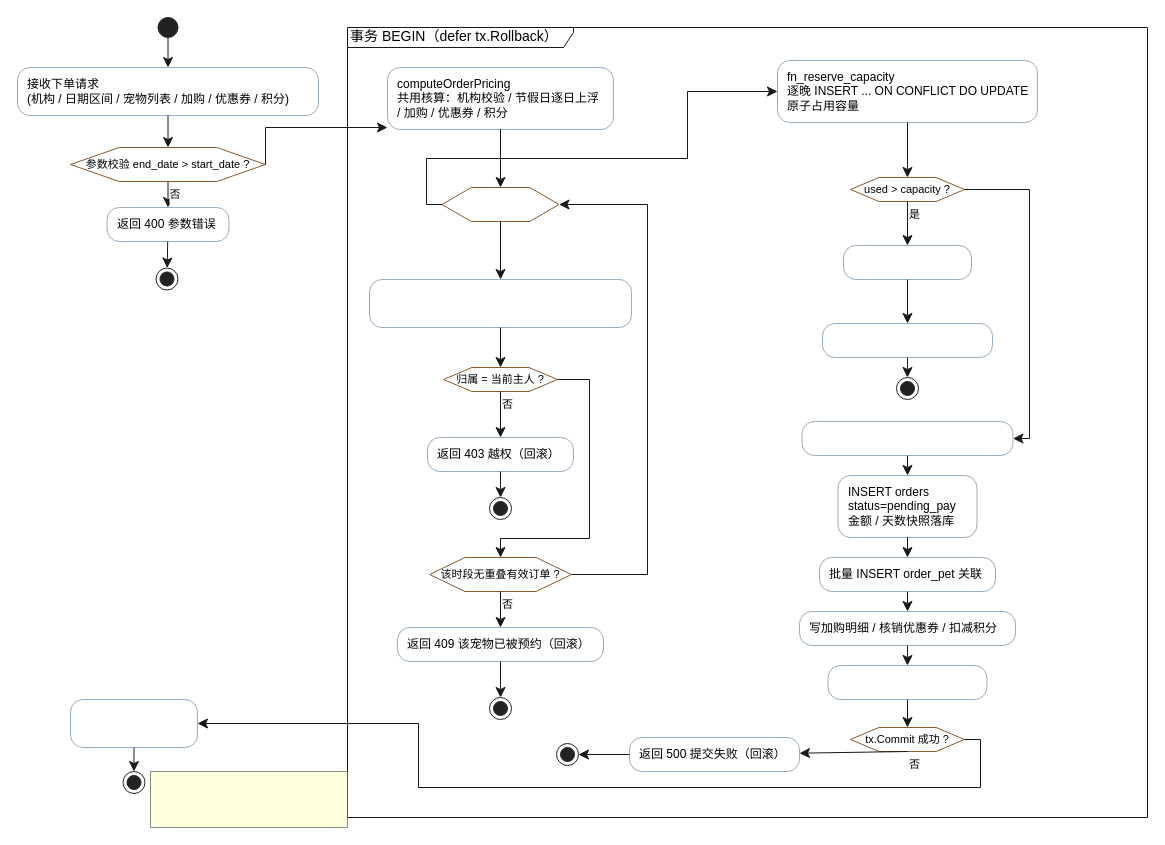
The diagram is 1165 pixels wide and 845 high, and some of its shapes have lost their labels. Here are the shapes that lost their labels. From the top down, the centre of each, then its label:
At (500,204): "还有未校验的宠物?".
At (907,262): "RAISE 容量超限异常".
At (500,303): "FOR UPDATE 锁宠物行 SELECT owner_id FROM pets FOR UPDATE".
At (907,340): "返回 409 容量不足（回滚）".
At (907,438): "fn_generate_order_no 生成订单号".
At (907,682): "fn_notify 通知机构新订单".
At (133,723): "返回 201 创建成功 提示 30 分钟内支付".
At (248,799): "任一校验失败或异常均触发 defer tx.Rollback 整笔回滚， 容量占用与订单快照不落库。".
